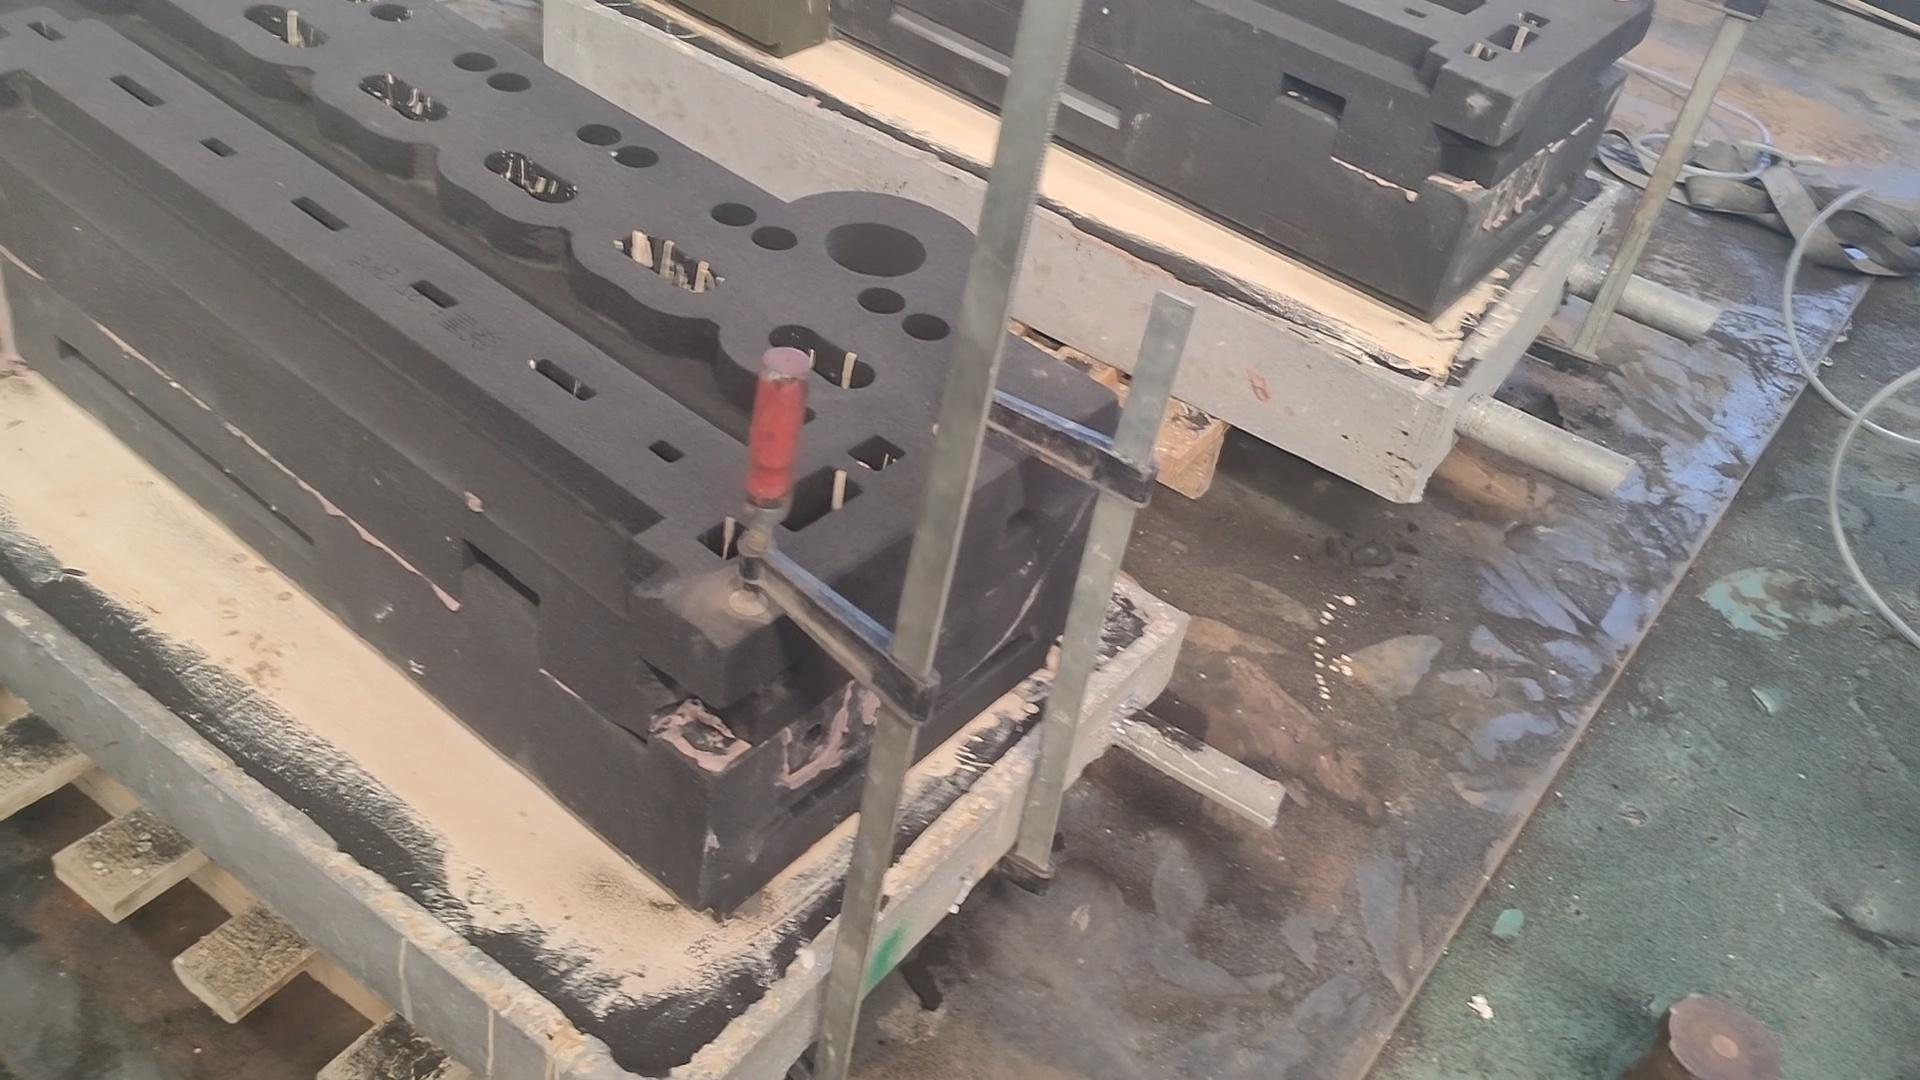pouring hole: (824, 223, 927, 276)
